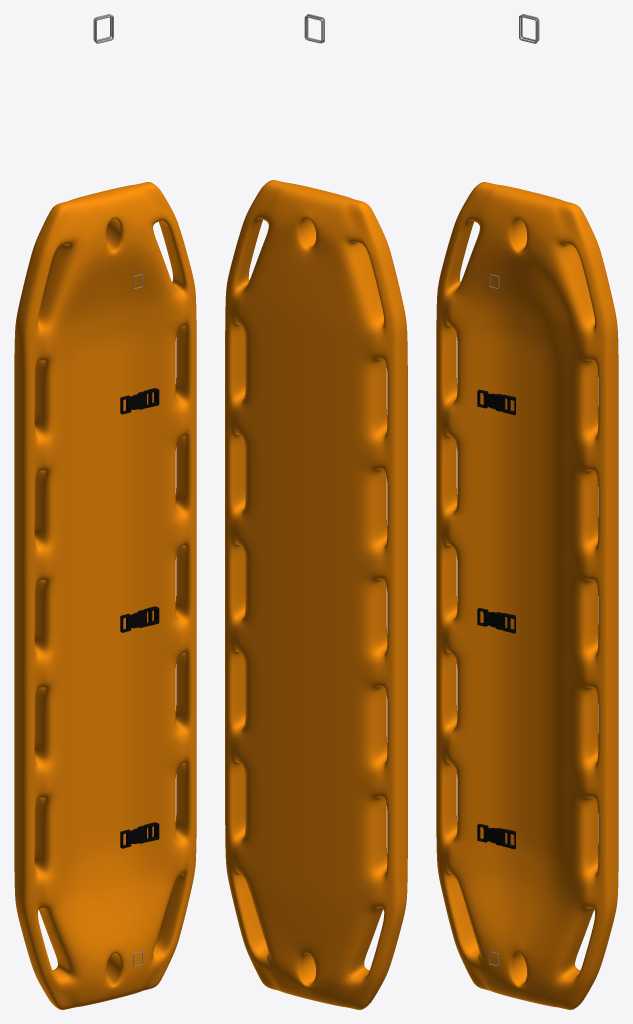
File: rescue.FBX
3 renders of one model, left to right at view 1: azimuth 30°, elevation 25°; view 2: azimuth 150°, elevation 25°; view 3: azimuth 330°, elevation 25°, orthographic.
Parts seen in each view (by area): view 1: Stretchers_002, Archmodel_161_015_1117, Archmodel_161_015_1119, Archmodel_161_015_1118; view 2: Stretchers_002; view 3: Stretchers_002, Archmodel_161_015_1119, Archmodel_161_015_1118, Archmodel_161_015_1117.
Part boxes in pixels (bbox=[...]): Stretchers_002: bbox=[14, 182, 196, 1009]; Archmodel_161_015_1117: bbox=[120, 822, 159, 848]; Archmodel_161_015_1119: bbox=[120, 388, 159, 414]; Archmodel_161_015_1118: bbox=[120, 606, 159, 632]; Stretchers_002: bbox=[225, 180, 407, 1009]; Stretchers_002: bbox=[436, 182, 618, 1009]; Archmodel_161_015_1119: bbox=[477, 389, 515, 415]; Archmodel_161_015_1118: bbox=[477, 608, 515, 633]; Archmodel_161_015_1117: bbox=[477, 823, 515, 849].
Bounding box in the file's own units: 0.4512 × 2.44 × 0.2041.
